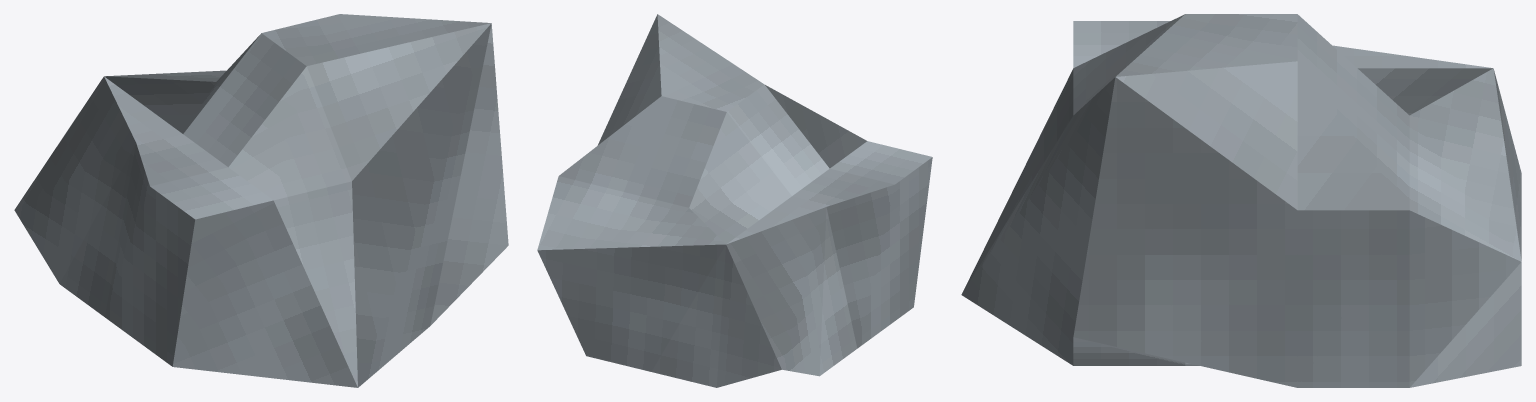
Rendered from rock.gltf.
3 views of the same model, side by side, from view 1: azimuth 30°, elevation 25°; view 2: azimuth 150°, elevation 25°; view 3: azimuth 270°, elevation 25° (orthographic). The views are drawn at different scales.
Parts seen in each view (by area): view 1: mesh; view 2: mesh; view 3: mesh.
Boxes of the visible parts, left/top/right/bottom form: mesh: left=14, top=14, right=508, bottom=387; mesh: left=537, top=14, right=932, bottom=387; mesh: left=961, top=14, right=1521, bottom=387.
Size of the model in its own units: 1 by 0.8281 by 1.25.
1 material, 1 textured.
